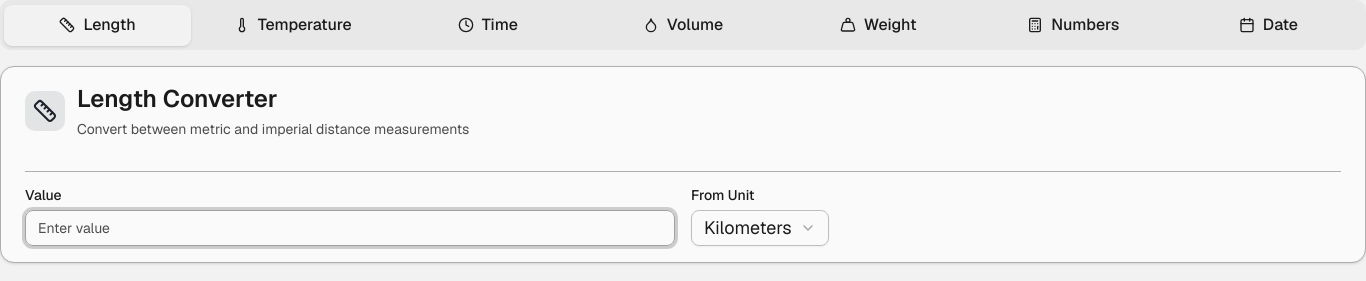
Test: CategoryTabs Integration › switches to temperature converter and handles different unit types
The image size is (1366, 281).
Click on temperature tab
Click the tab "Temperature" at (293, 25), box [199,4,386,46]
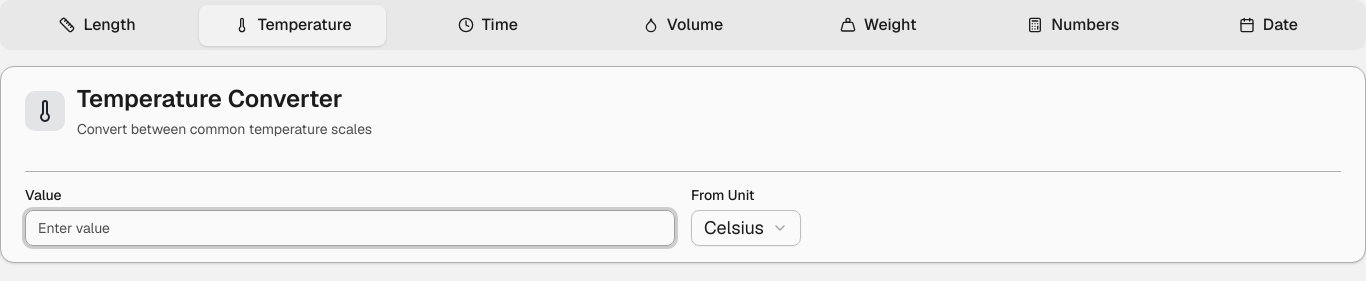
Check: the text "Temperature Converter" is shown, box [77,83,372,115]
